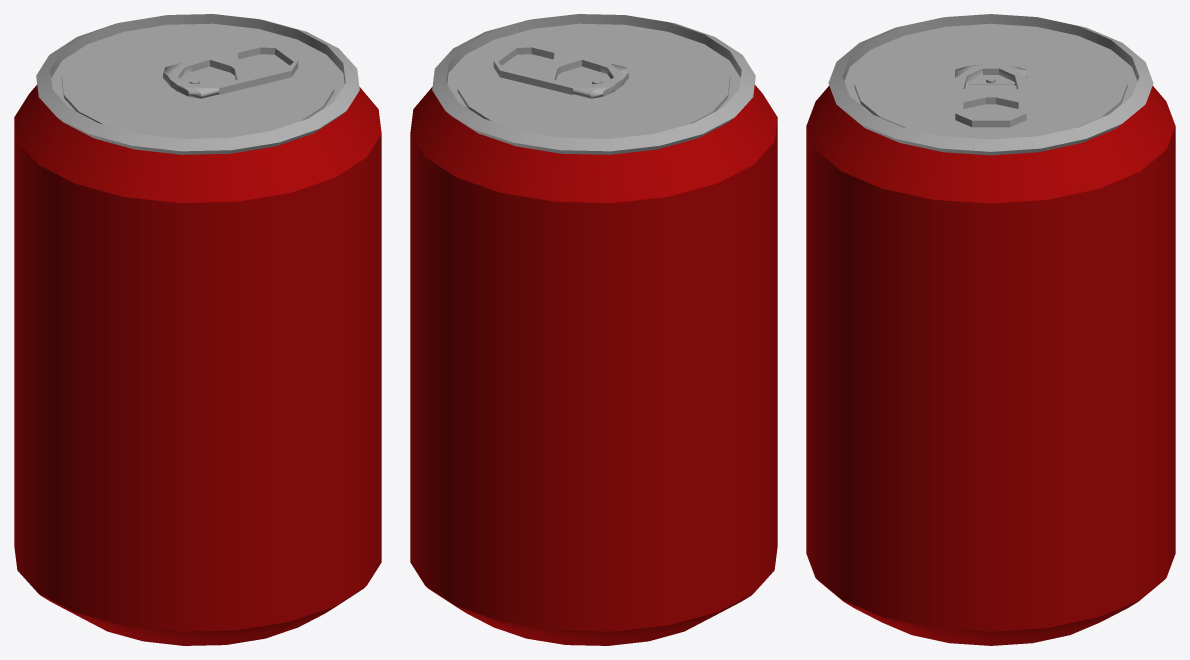
Rendered from blik.fbx.
The picture shows the model from 3 angles, left to right: view 1: azimuth 30°, elevation 25°; view 2: azimuth 150°, elevation 25°; view 3: azimuth 270°, elevation 25°; orthographic projection.
Parts seen in each view (by area): view 1: pCylinder1, pCube1; view 2: pCylinder1, pCube1; view 3: pCylinder1, pCube1.
Part boxes in pixels (bbox=[...]): pCylinder1: bbox=[14, 14, 381, 645]; pCube1: bbox=[163, 44, 298, 98]; pCylinder1: bbox=[410, 14, 777, 645]; pCube1: bbox=[493, 44, 628, 98]; pCylinder1: bbox=[806, 14, 1175, 645]; pCube1: bbox=[955, 64, 1026, 127].
Bounding box in the file's own units: 20.67 × 31.69 × 20.67.
